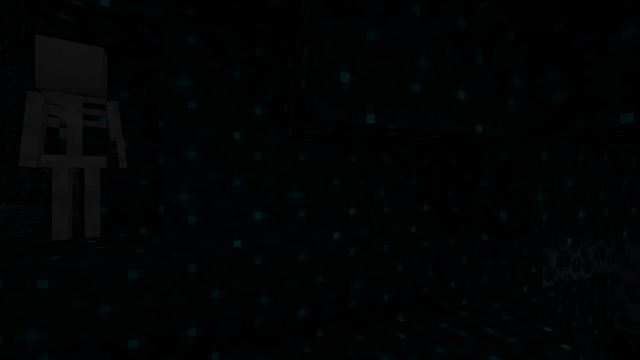squelettes: (20, 32, 117, 245)
